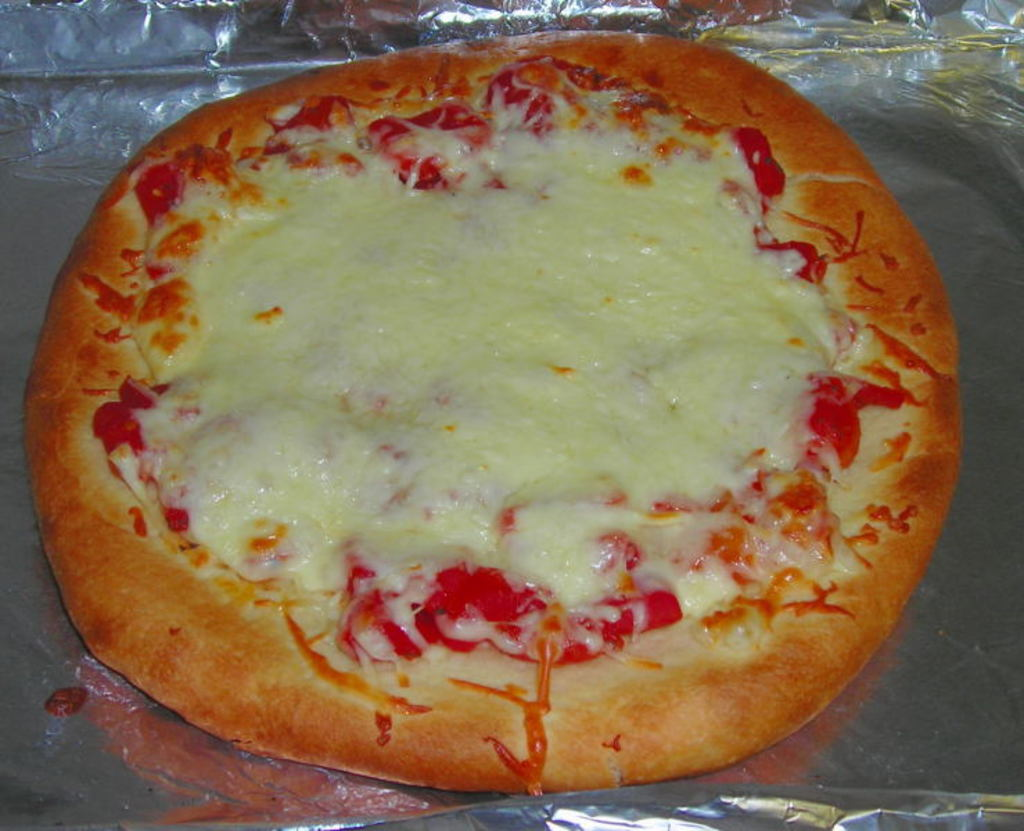Pizza: (0, 31, 968, 811)
